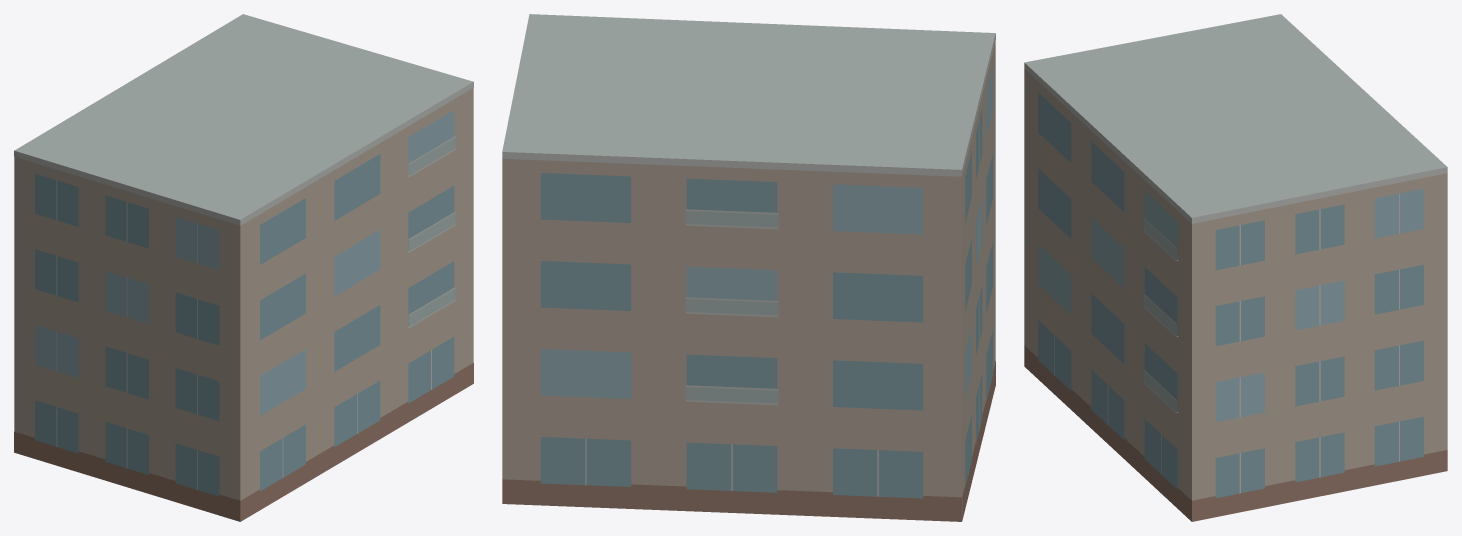
The model's file is survey-upis-32731794.glb.
3 views of the same model, side by side, from view 1: azimuth 30°, elevation 25°; view 2: azimuth 150°, elevation 25°; view 3: azimuth 270°, elevation 25° (orthographic). The views are drawn at different scales.
Parts seen in each view (by area): view 1: survey-upis-32731794.tmp; view 2: survey-upis-32731794.tmp; view 3: survey-upis-32731794.tmp.
Part boxes in pixels (bbox=[...]): survey-upis-32731794.tmp: bbox=[14, 14, 473, 521]; survey-upis-32731794.tmp: bbox=[502, 14, 995, 521]; survey-upis-32731794.tmp: bbox=[1024, 14, 1447, 521].
Size of the model in its own units: 18 by 12.5 by 15.79.
